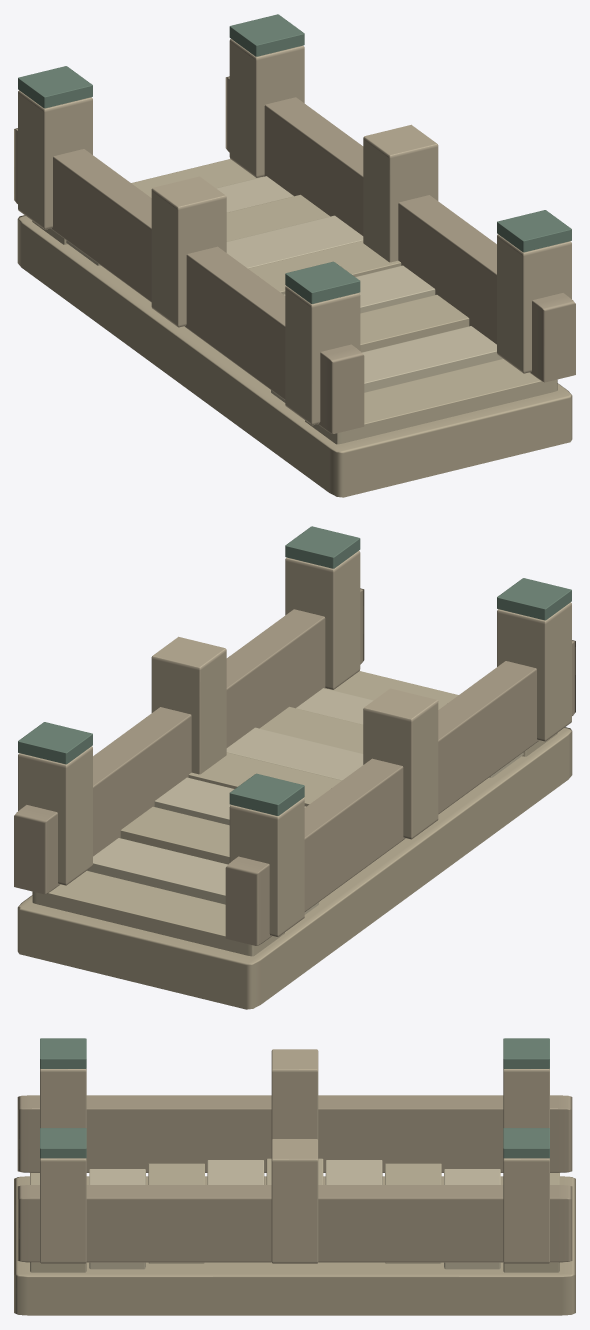
The model's file is bridge-1.glb.
3 renders of one model, top to bottom at view 1: azimuth 30°, elevation 25°; view 2: azimuth 150°, elevation 25°; view 3: azimuth 270°, elevation 25°, orthographic. The views are drawn at different scales.
Parts seen in each view (by area): view 1: bridge-1-0; view 2: bridge-1-0; view 3: bridge-1-0.
Part boxes in pixels (x1=…): bridge-1-0: x1=14, y1=14, x2=575, y2=497; bridge-1-0: x1=14, y1=526, x2=575, y2=1009; bridge-1-0: x1=14, y1=1038, x2=575, y2=1315.
Bounding box in the file's own units: 1.06 × 0.7725 × 2.28.
